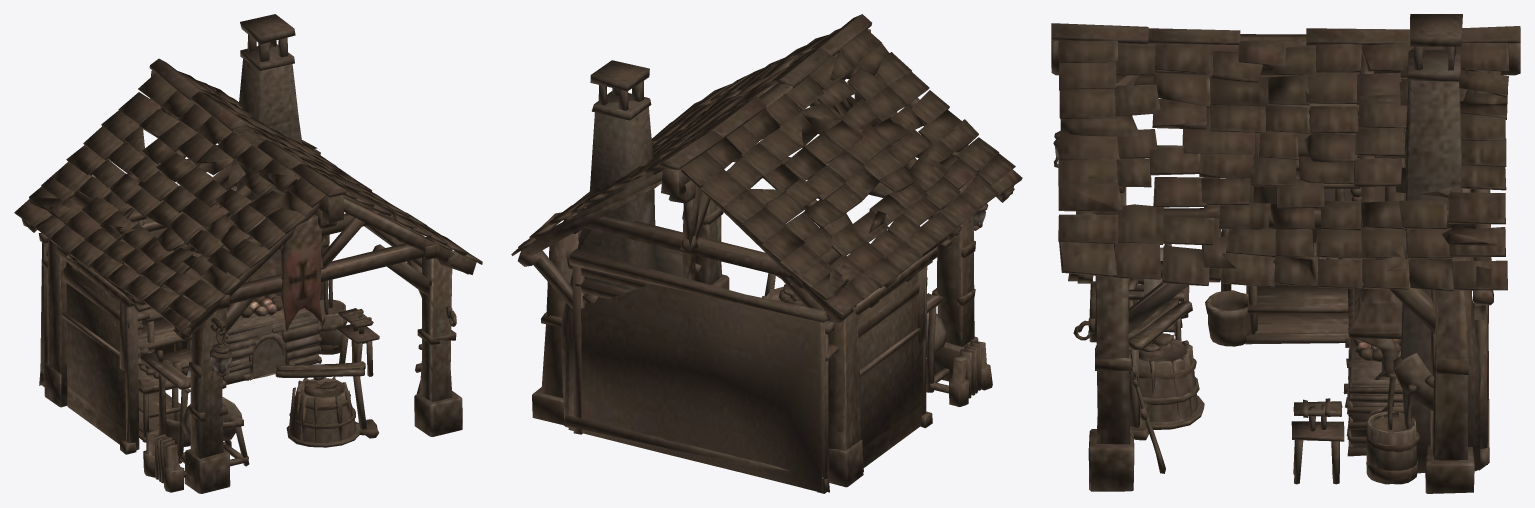
File: x_blacksmith.glb
The picture shows the model from 3 angles, left to right: view 1: azimuth 30°, elevation 25°; view 2: azimuth 150°, elevation 25°; view 3: azimuth 270°, elevation 25°; orthographic projection. The views are drawn at different scales.
Visible parts, largest first — view 1: x_blacksmith; view 2: x_blacksmith; view 3: x_blacksmith.
Boxes of the visible parts, x1,y1,x2,y2 form: x_blacksmith: (14, 14, 482, 493); x_blacksmith: (511, 14, 1022, 493); x_blacksmith: (1051, 14, 1520, 493).
Bounding box in the file's own units: 0.973 × 0.9851 × 0.9851.
1 material, 1 textured.
